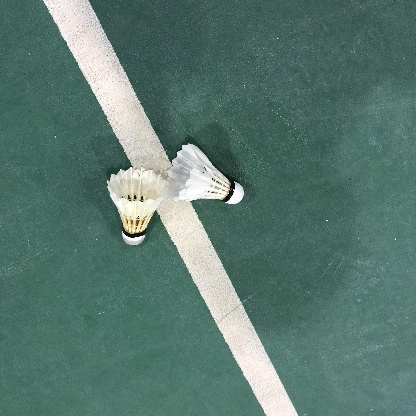ball_single: (107, 167, 169, 246), (164, 143, 244, 204)
